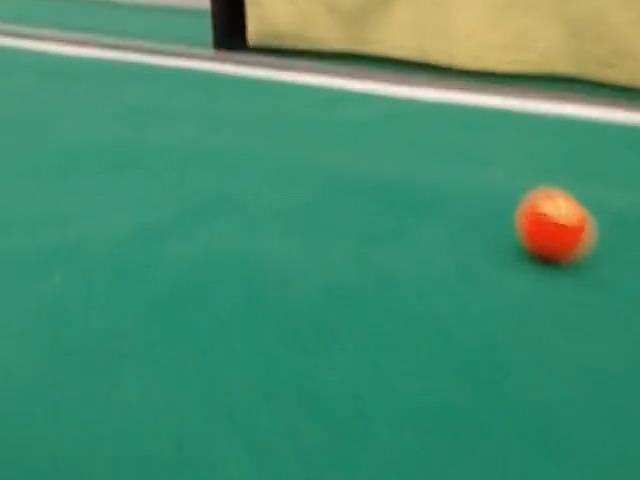Ball: (514, 187, 596, 264)
